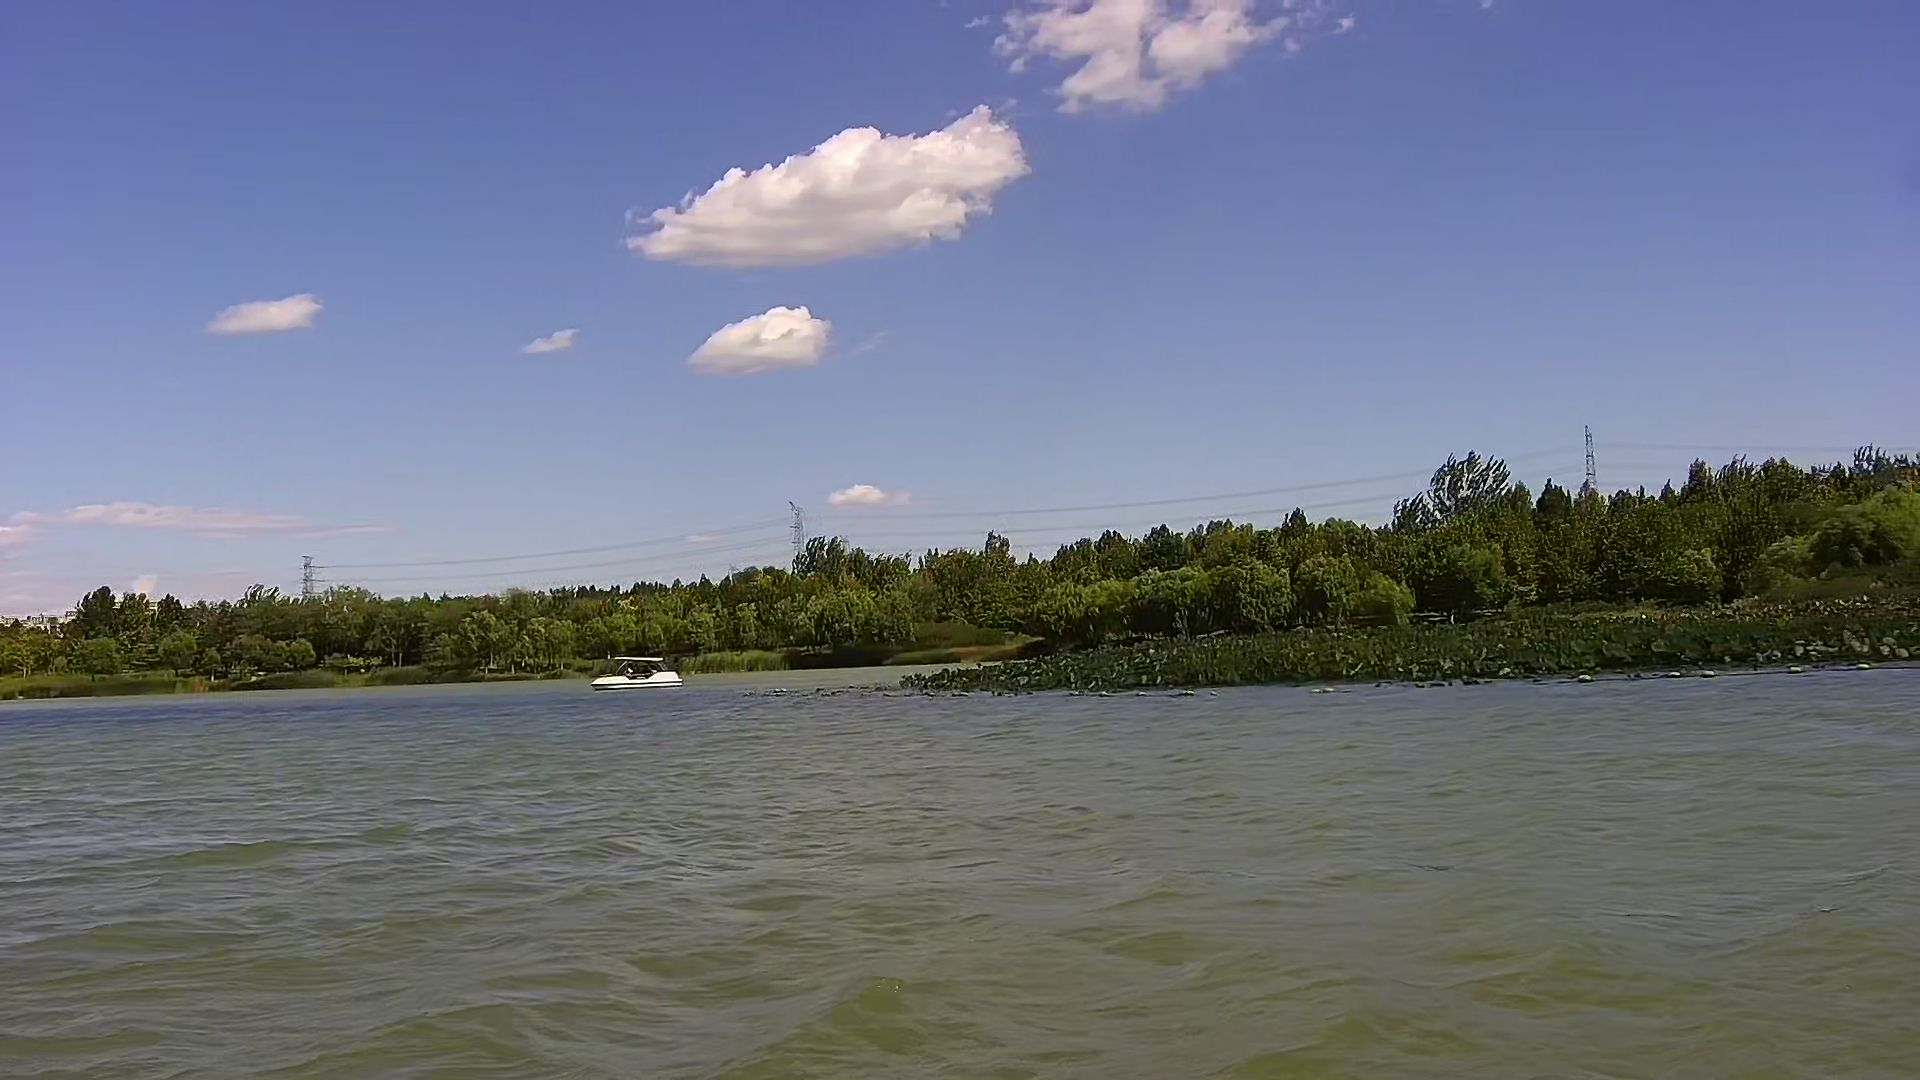boat: (587, 651, 690, 691)
